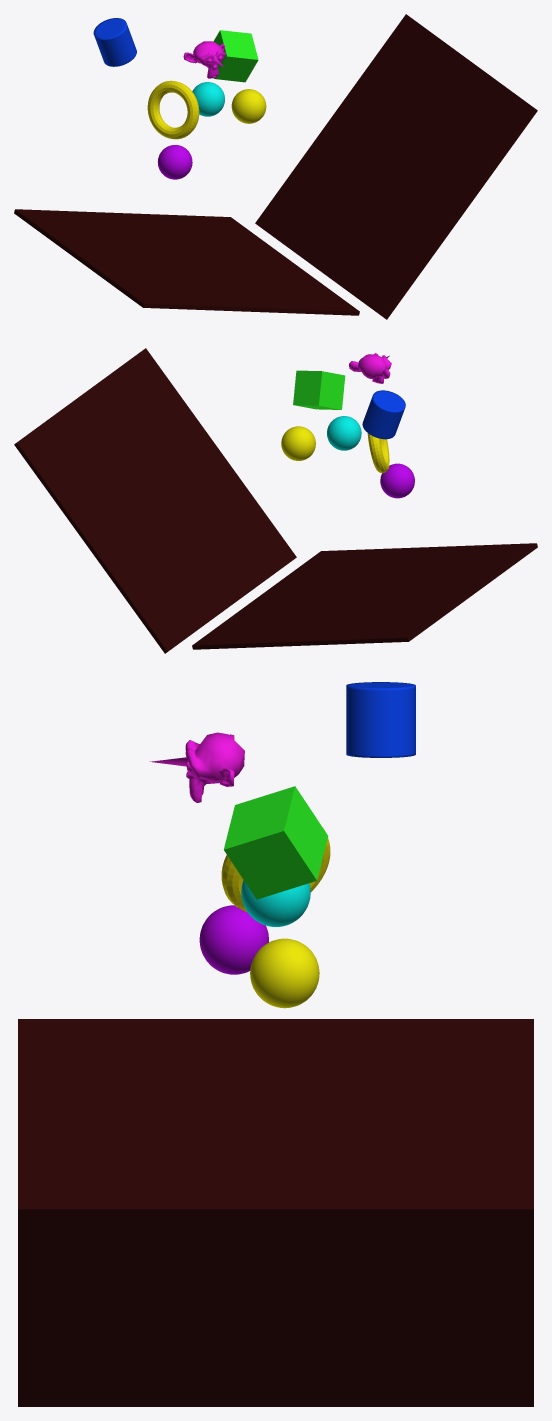
File: simple.glb
3 views of the same model, one above another, from view 1: azimuth 30°, elevation 25°; view 2: azimuth 150°, elevation 25°; view 3: azimuth 270°, elevation 25° (orthographic). The views are drawn at different scales.
Parts seen in each view (by area): view 1: floor.003, floor.002, Cube, Torus, Cylinder, Sphere.001, Sphere.002, Suzanne, Sphere; view 2: floor.003, floor.002, Cube, Cylinder, Sphere, Sphere.001, Sphere.002, Suzanne, Torus; view 3: floor.003, floor.002, Cube, Cylinder, Sphere.001, Sphere.002, Suzanne, Sphere, Torus.
Boxes of the visible parts, box(x1,y1,x2,y2) form: floor.003: box(255, 14, 537, 319); floor.002: box(14, 209, 359, 315); Cube: box(213, 30, 258, 82); Torus: box(147, 80, 199, 139); Cylinder: box(93, 18, 136, 66); Sphere.001: box(231, 89, 266, 123); Sphere.002: box(157, 145, 192, 179); Suzanne: box(183, 41, 226, 78); Sphere: box(192, 82, 224, 116); floor.003: box(14, 348, 296, 653); floor.002: box(192, 543, 537, 649); Cube: box(293, 370, 345, 409); Cylinder: box(362, 390, 405, 439); Sphere: box(327, 416, 361, 450); Sphere.001: box(281, 426, 315, 460); Sphere.002: box(380, 463, 414, 498); Suzanne: box(349, 353, 391, 383); Torus: box(367, 433, 389, 473); floor.003: box(18, 1201, 533, 1406); floor.002: box(18, 1019, 533, 1200); Cube: box(223, 786, 328, 899); Cylinder: box(346, 682, 415, 757); Sphere.001: box(250, 938, 319, 1008); Sphere.002: box(199, 905, 268, 974); Suzanne: box(149, 732, 244, 802); Sphere: box(241, 880, 310, 926); Torus: box(221, 828, 330, 912).
Size of the model in its own units: 26.18 by 17.44 by 14.82.
